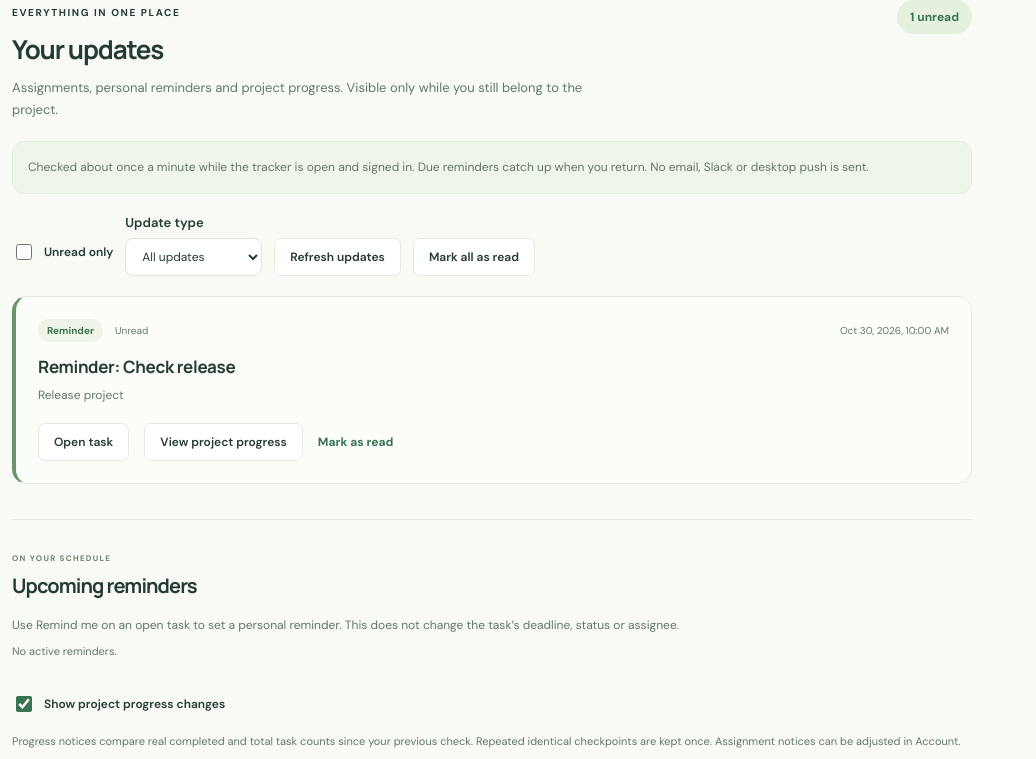
Scenario: keeps a failed read action visible and reports a useful retry error
This screenshot has width=1036, height=759.
Step 1. Click the button "Mark as read" → (356, 442), box [318,434,393,450]
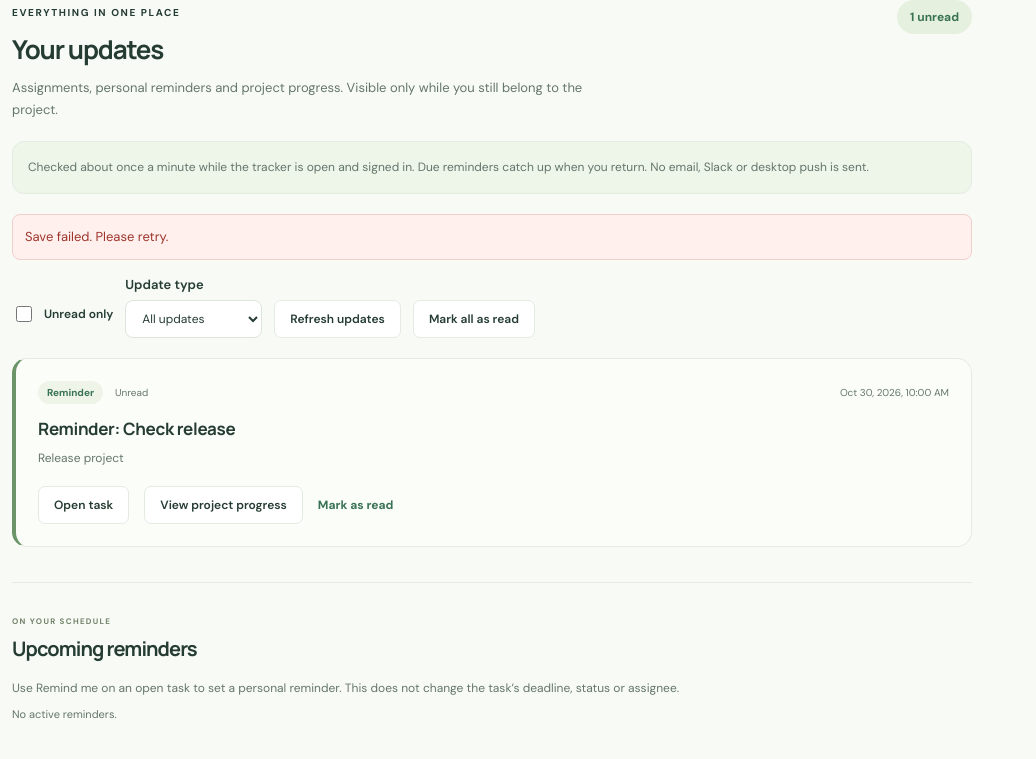
expect the button "Mark as read" is shown: met, box [318,497,393,513]
expect the message shows "Save failed": met, box [25,228,168,245]
